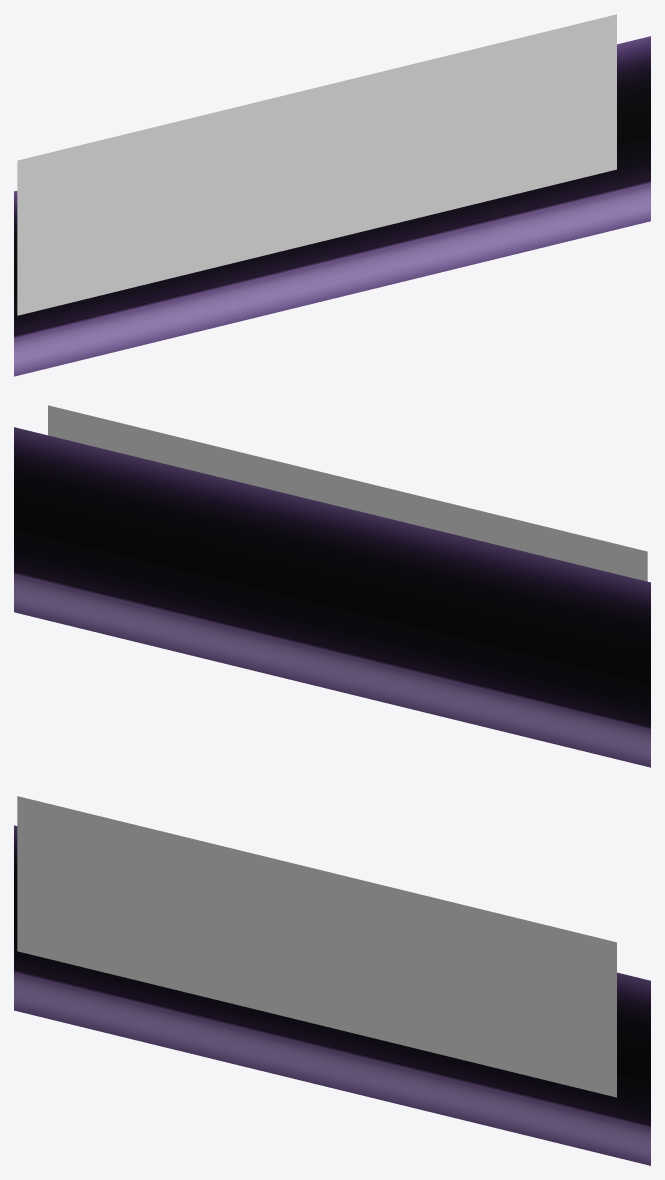
Rendered from pref_fxui_pkmavatarshop_banner_02.fbx.
The picture shows the model from 3 angles, top to bottom: view 1: azimuth 30°, elevation 25°; view 2: azimuth 150°, elevation 25°; view 3: azimuth 330°, elevation 25°; orthographic projection.
Visible parts, largest first — view 1: mask02 (1), mask02; view 2: mask02, mask02 (1); view 3: mask02 (1), mask02.
Boxes of the visible parts, x1,y1,x2,y2 form: mask02 (1): (17,14,616,315); mask02: (14,36,650,376); mask02: (14,427,650,767); mask02 (1): (48,405,647,581); mask02 (1): (17,796,616,1097); mask02: (14,825,650,1165).
Bounding box in the file's own units: 914 × 295 × 0.02.
Materials: 2 (1 with a texture image).
